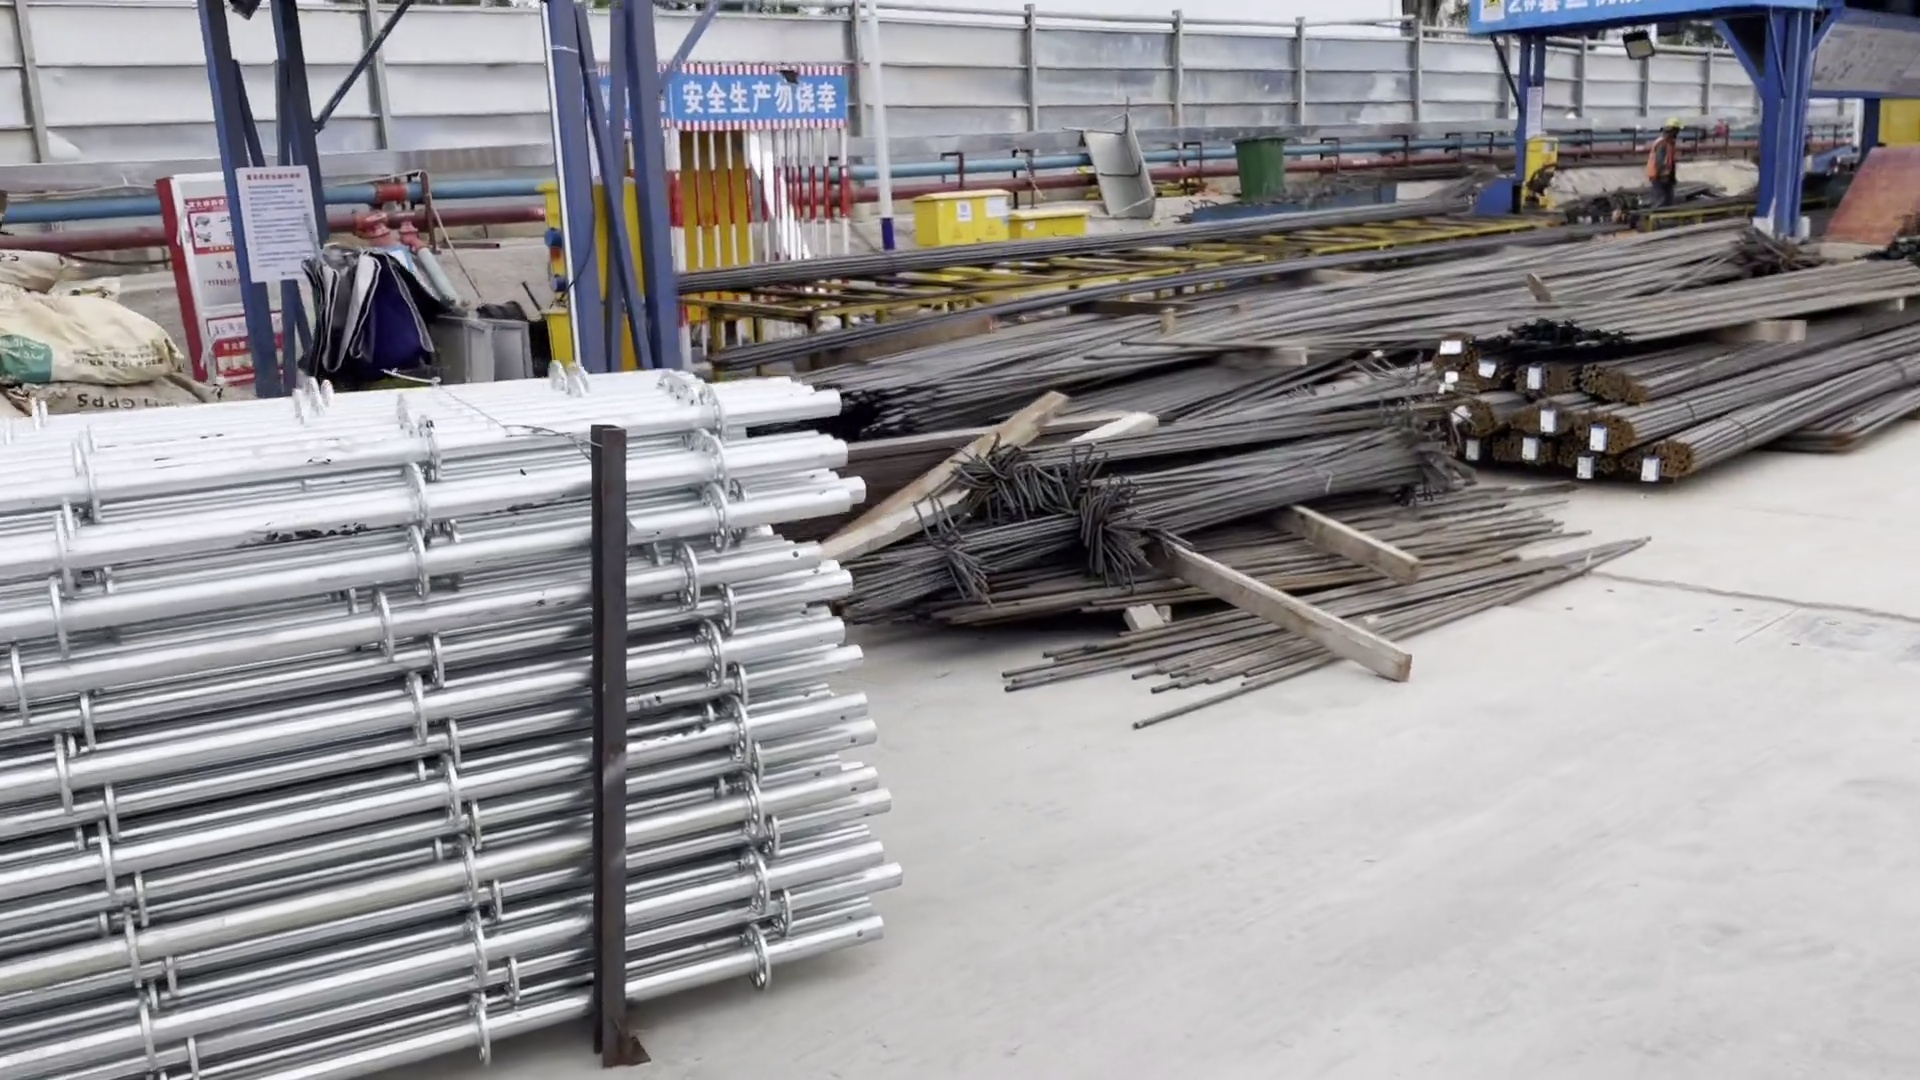ebox: (551, 169, 662, 356), (893, 182, 1011, 245), (1012, 197, 1099, 242), (1522, 126, 1560, 220)
helmet: (1661, 116, 1680, 129)
person: (1644, 116, 1691, 204)
rebar: (833, 215, 1728, 437), (1429, 272, 1920, 504), (666, 174, 1475, 297), (880, 384, 1410, 555)
scaffold: (1, 360, 886, 1076)
slogan: (673, 78, 846, 126)
vest: (1649, 133, 1673, 184)
